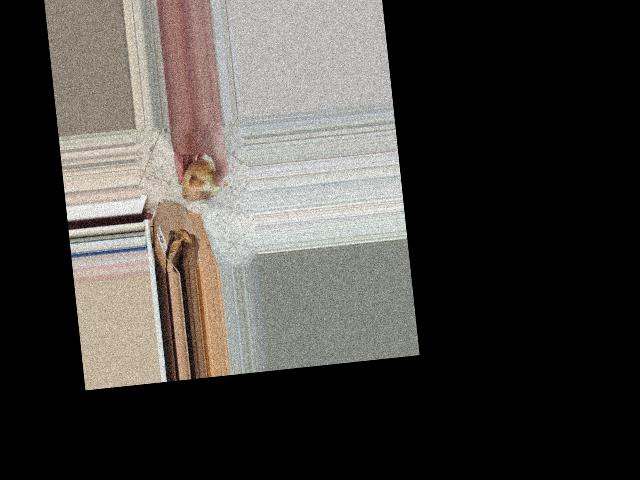onion: (177, 154, 229, 204)
